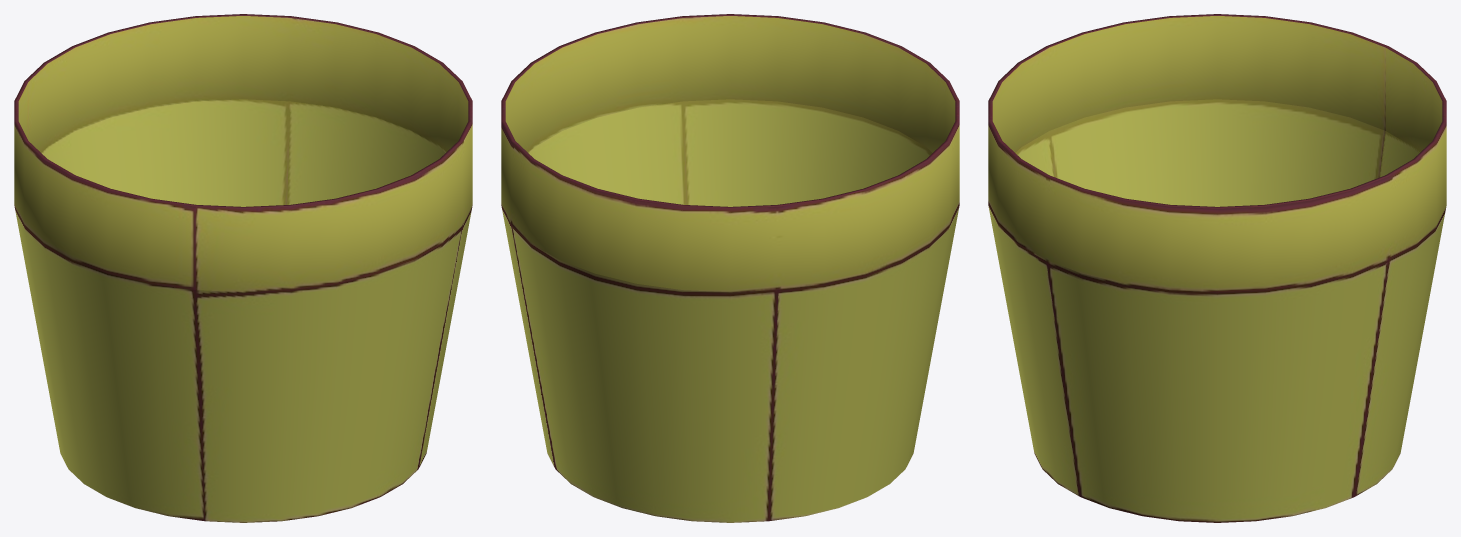
File: Dream(1)_Pot2.fbx
The picture shows the model from 3 angles, left to right: view 1: azimuth 30°, elevation 25°; view 2: azimuth 150°, elevation 25°; view 3: azimuth 270°, elevation 25°; orthographic projection.
Visible parts, largest first — view 1: Cylinder001; view 2: Cylinder001; view 3: Cylinder001.
Part boxes in pixels (bbox=[...]): Cylinder001: bbox=[14, 14, 472, 522]; Cylinder001: bbox=[501, 14, 959, 522]; Cylinder001: bbox=[988, 14, 1446, 522].
Size of the model in its own units: 50.06 by 40 by 49.79.
1 material, 1 textured.
